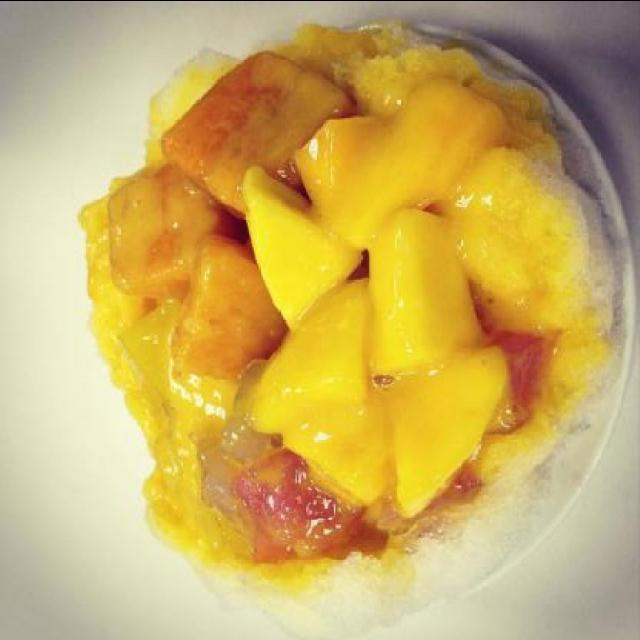Mango: (77, 27, 609, 590), (256, 205, 504, 513), (255, 170, 368, 328)
